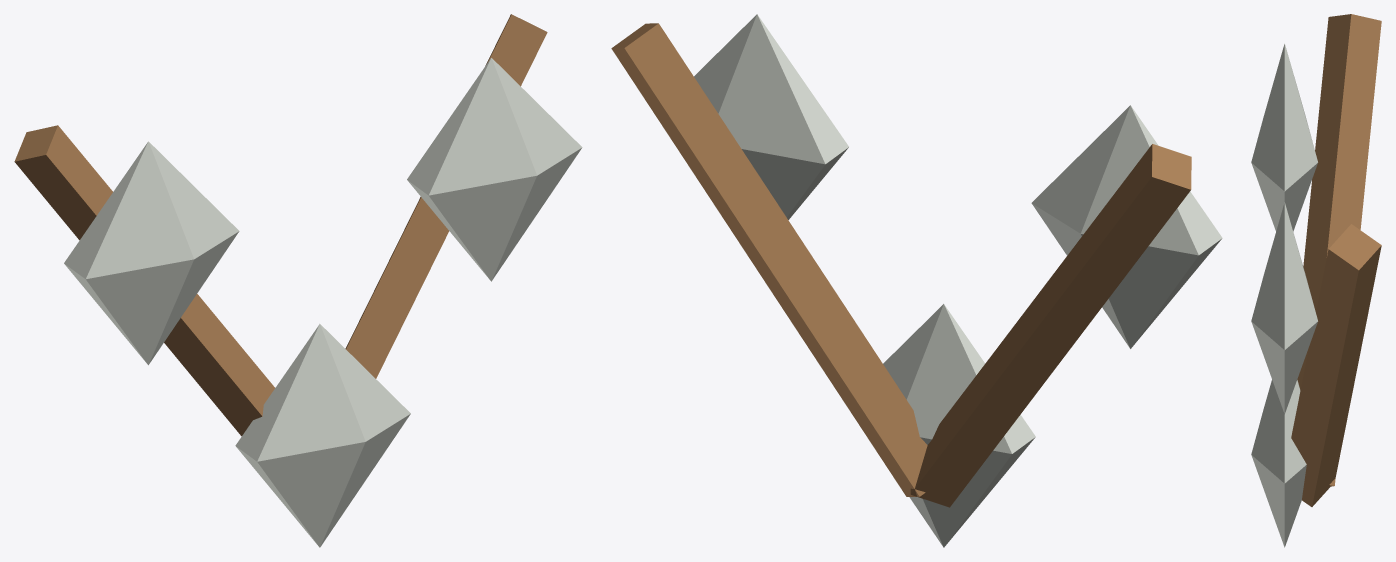
Rendered from Water_Ornament.fbx.
3 renders of one model, left to right at view 1: azimuth 30°, elevation 25°; view 2: azimuth 150°, elevation 25°; view 3: azimuth 270°, elevation 25°, orthographic. The views are drawn at different scales.
Visible parts, largest first — view 1: Water_Ornament; view 2: Water_Ornament; view 3: Water_Ornament.
Part boxes in pixels (x1=…): Water_Ornament: x1=14, y1=14, x2=582, y2=547; Water_Ornament: x1=611, y1=14, x2=1222, y2=547; Water_Ornament: x1=1251, y1=14, x2=1381, y2=547.
Bounding box in the file's own units: 49.7 × 40.33 × 11.12.
